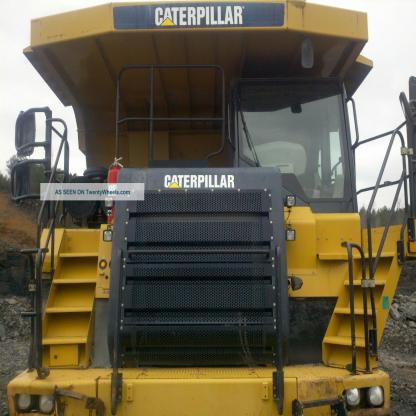dump_truck: (11, 5, 405, 412)
